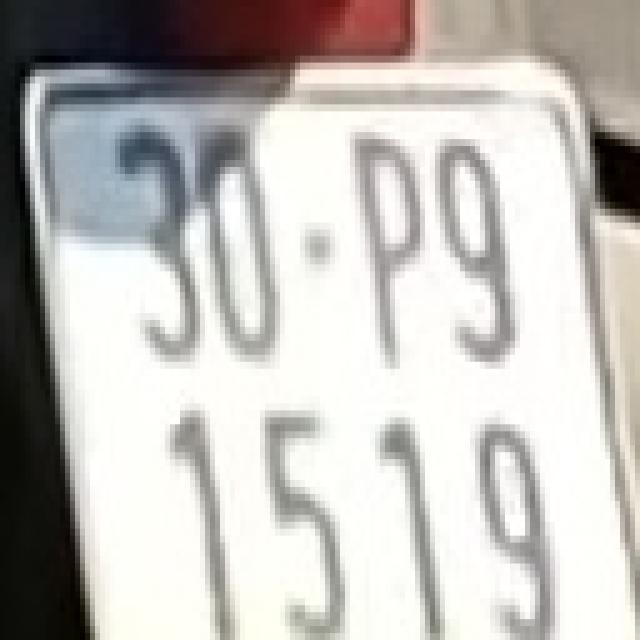0: (200, 126, 285, 362)
1: (160, 403, 240, 640), (370, 410, 450, 633)
3: (110, 118, 200, 362)
5: (260, 404, 350, 634)
9: (435, 132, 520, 369), (475, 417, 560, 640)
P: (350, 132, 430, 376)
